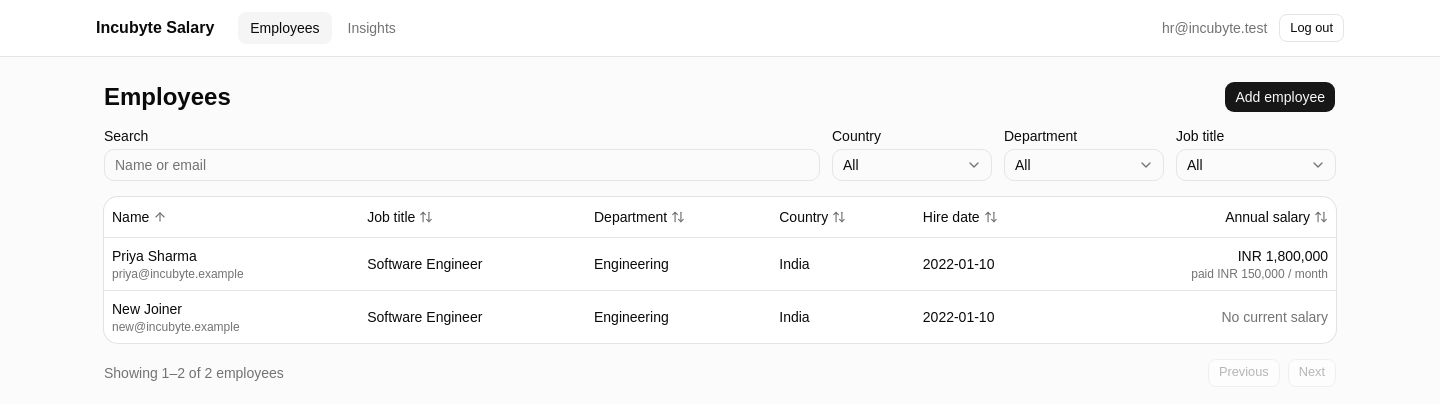
Scenario: Employees directory › doesn't eat a space typed right after a pause
In the search field named "Search employees": x=462, y=165 104,149 -> 820,181, type "priya "
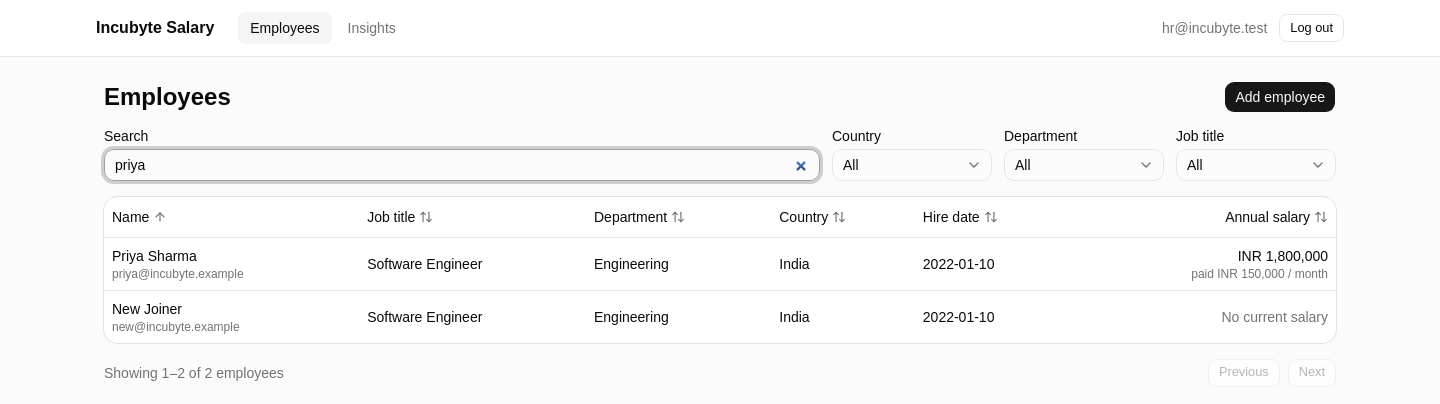
In the search field named "Search employees": x=462, y=165 104,149 -> 820,181, type "sh"
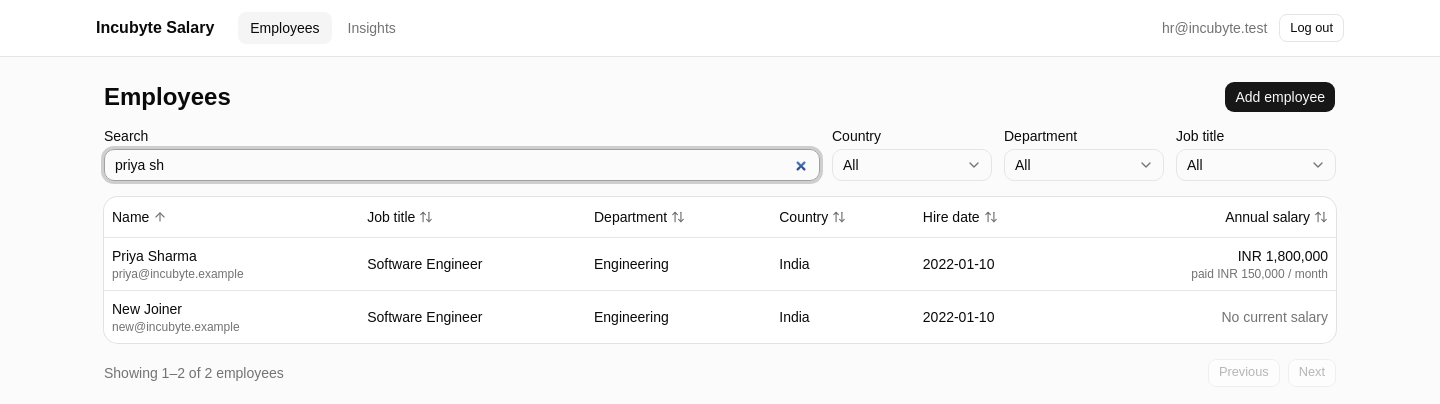
expect the search field named "Search employees" holds "priya sh": met, box 104,149 -> 820,181
